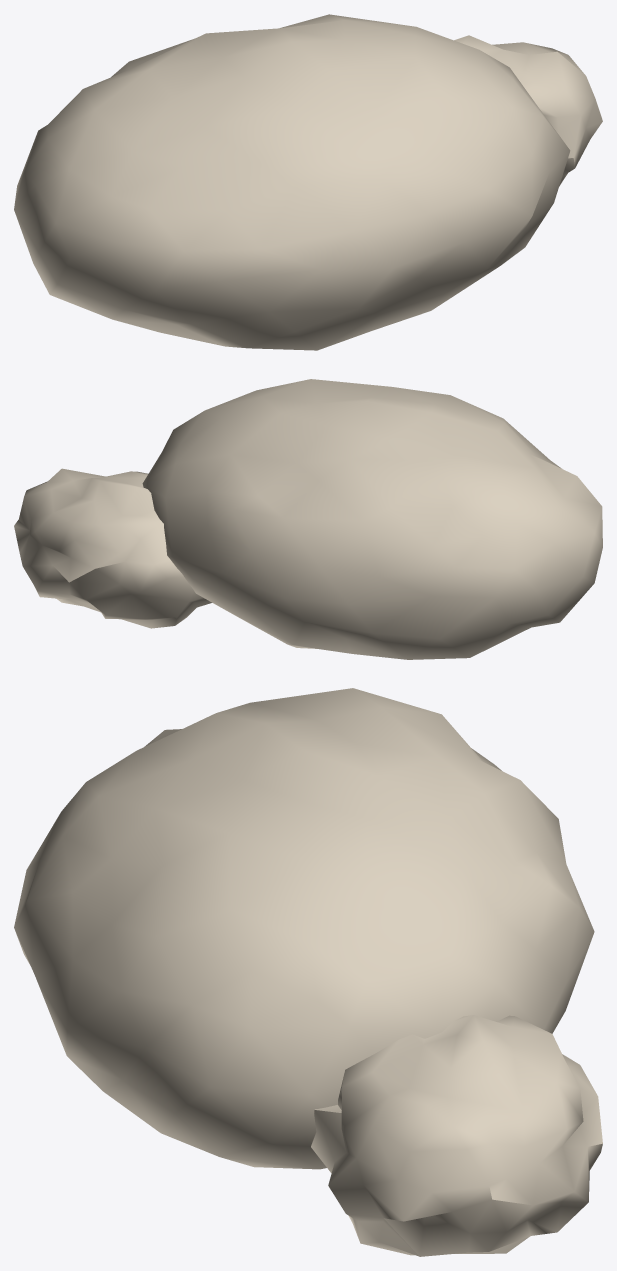
The model's file is pebbles.glb.
3 views of the same model, one above another, from view 1: azimuth 30°, elevation 25°; view 2: azimuth 150°, elevation 25°; view 3: azimuth 270°, elevation 25° (orthographic). The views are drawn at different scales.
Parts seen in each view (by area): view 1: Pebbles; view 2: Pebbles; view 3: Pebbles.
Part boxes in pixels (x1,y1,x2,y2): Pebbles: (14,14,602,350); Pebbles: (14,379,602,659); Pebbles: (14,688,602,1256).
Size of the model in its own units: 0.7223 by 0.3136 by 0.4701.
